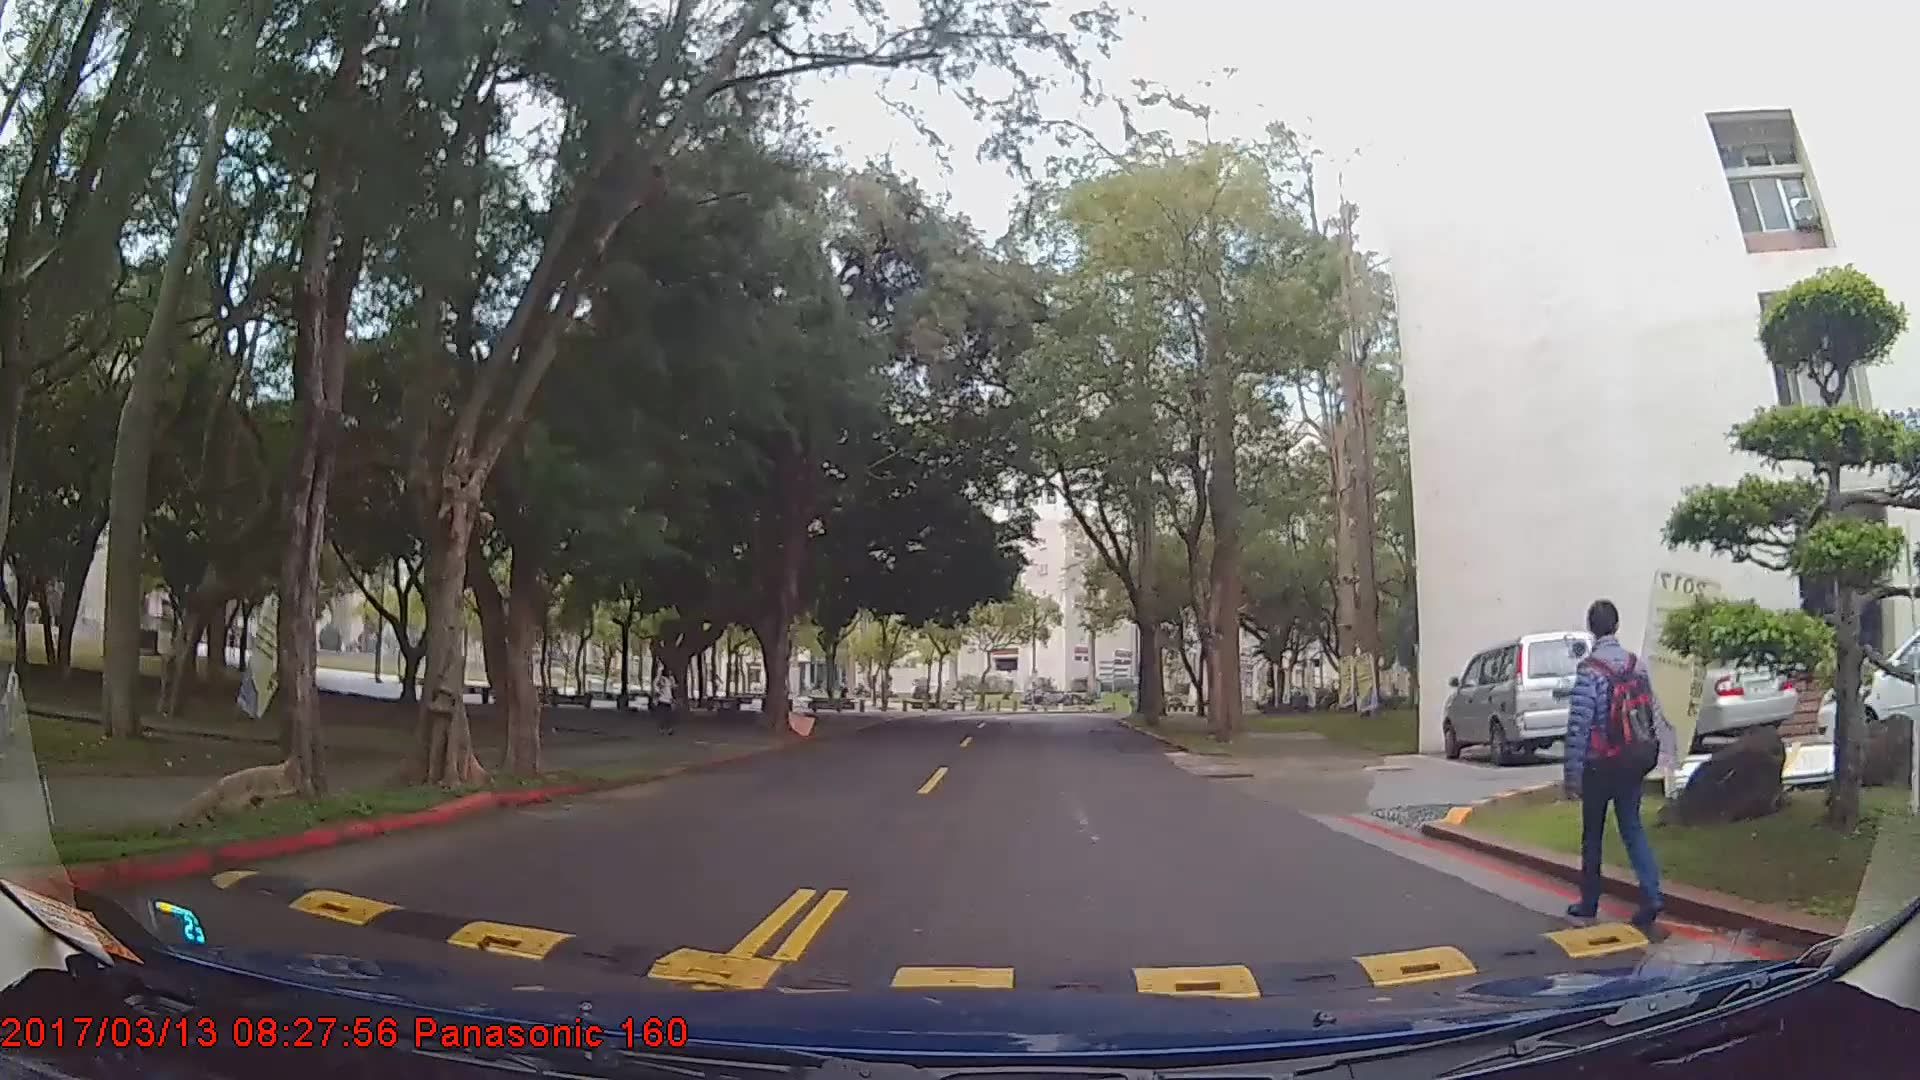pedestrian: (1560, 592, 1667, 924), (651, 664, 682, 737)
vehicle: (1441, 627, 1603, 762)
